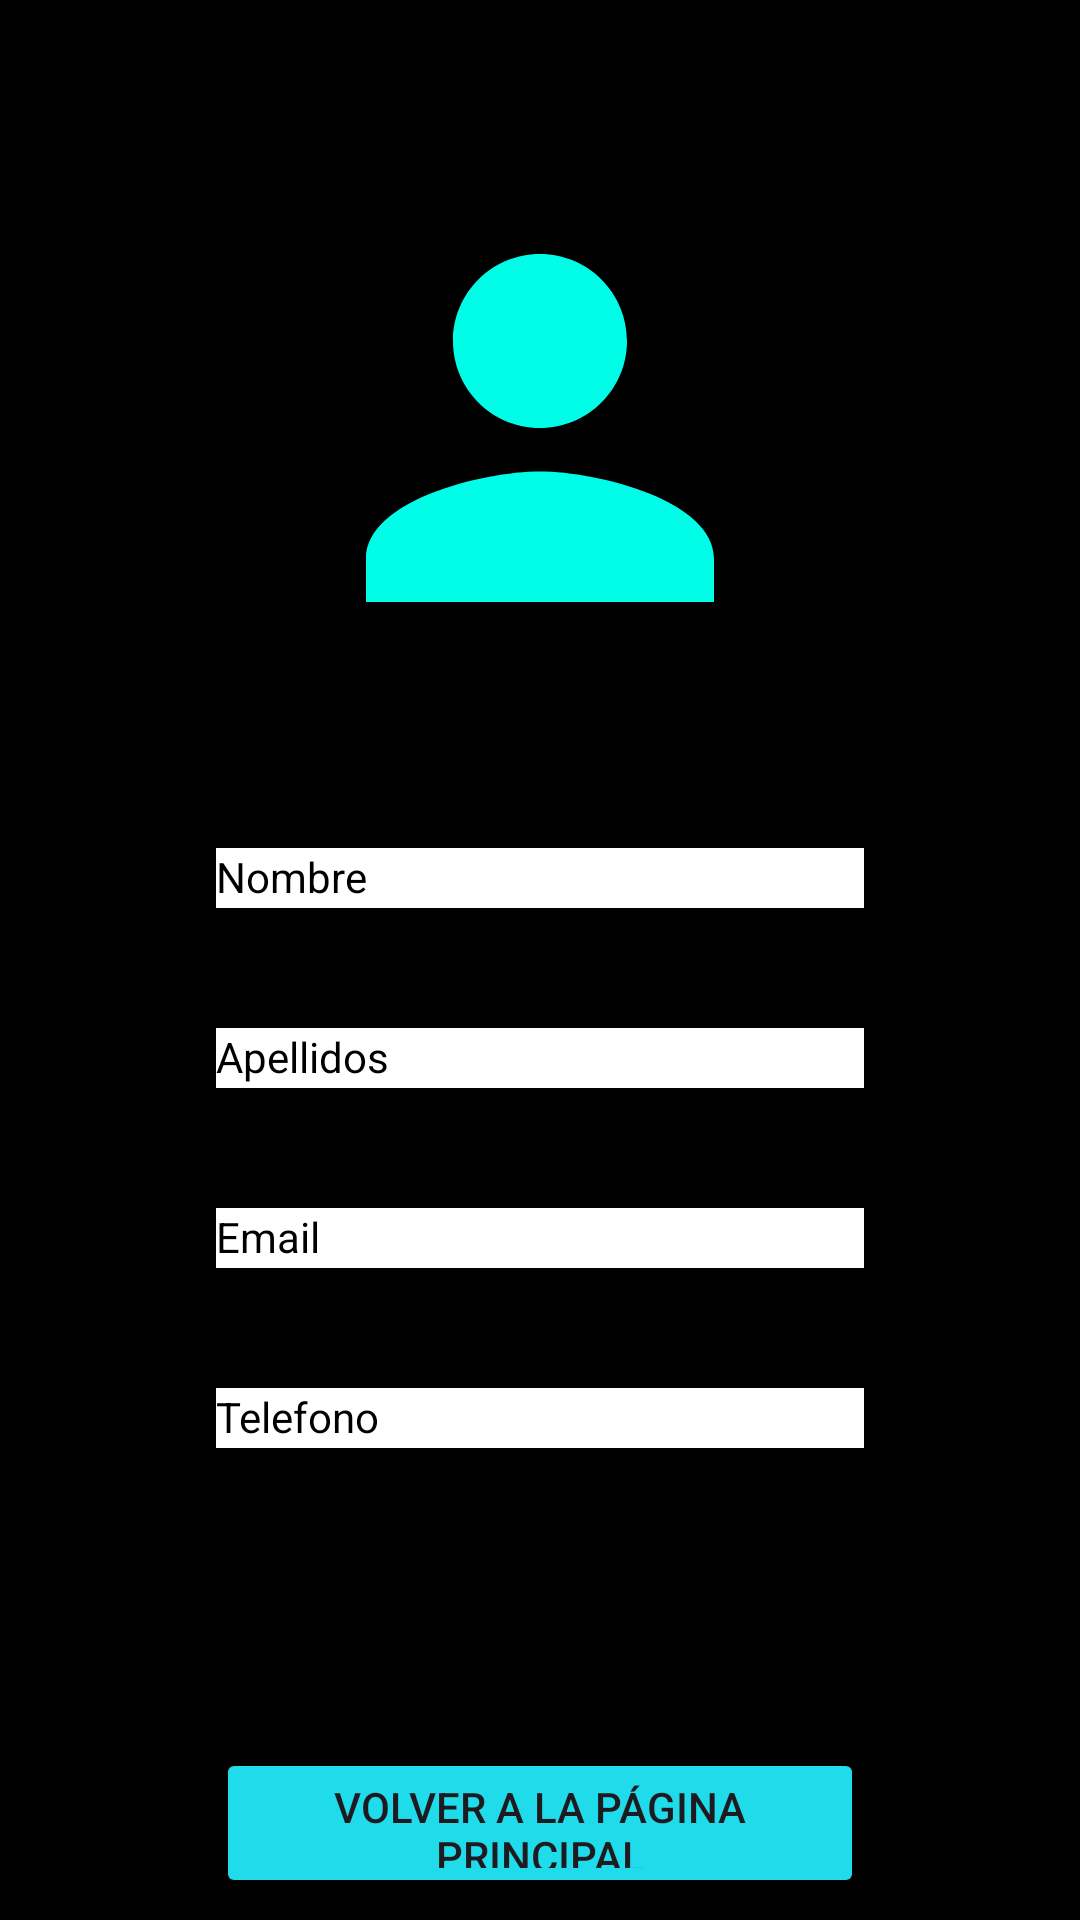

Icons on this 1080×1920 Android screen, each with the point to tap as point (x, y):
profile: point (540, 428)
